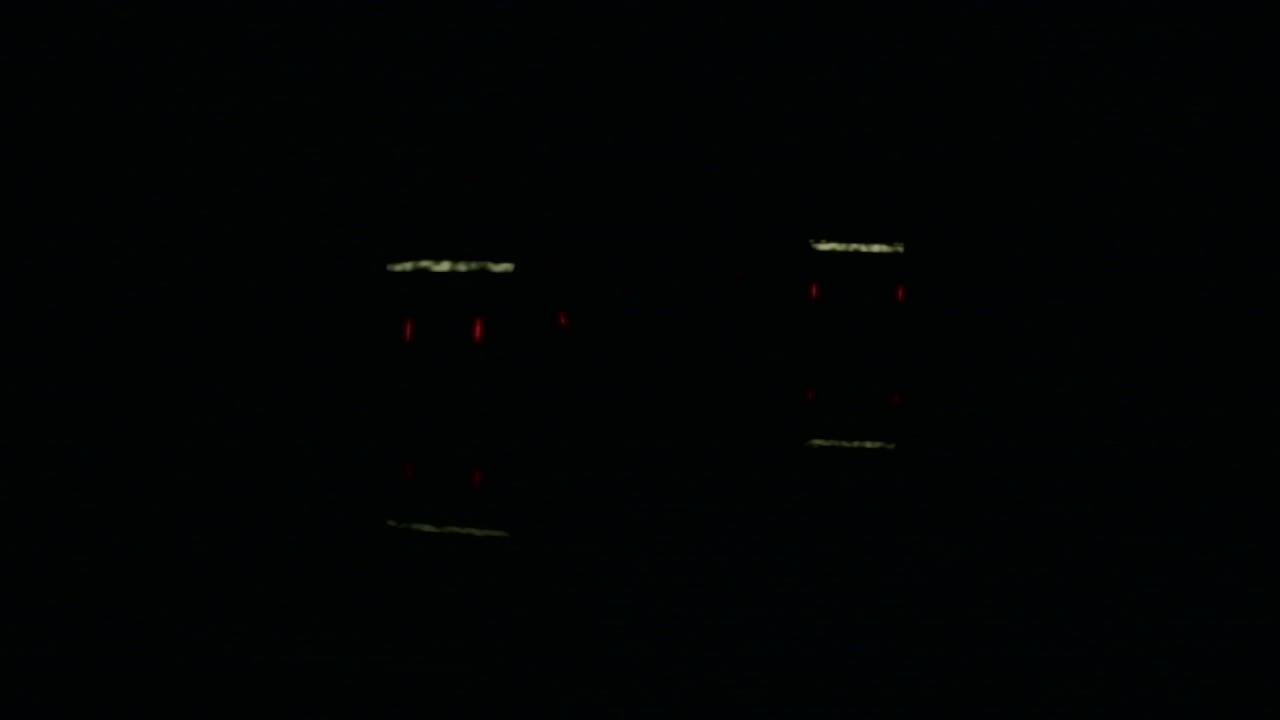lamp: (473, 314, 483, 342), (401, 317, 410, 342), (810, 279, 819, 298), (899, 283, 908, 302)
pair1: (401, 317, 482, 341)
pair2: (810, 283, 904, 300)
